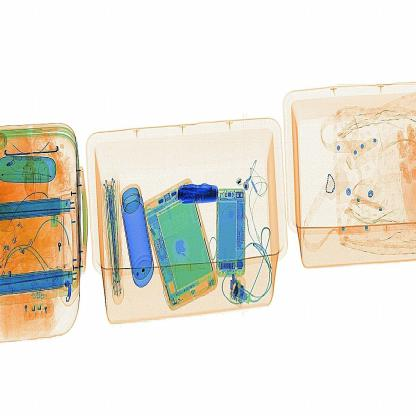scissors: (171, 173, 227, 215)
